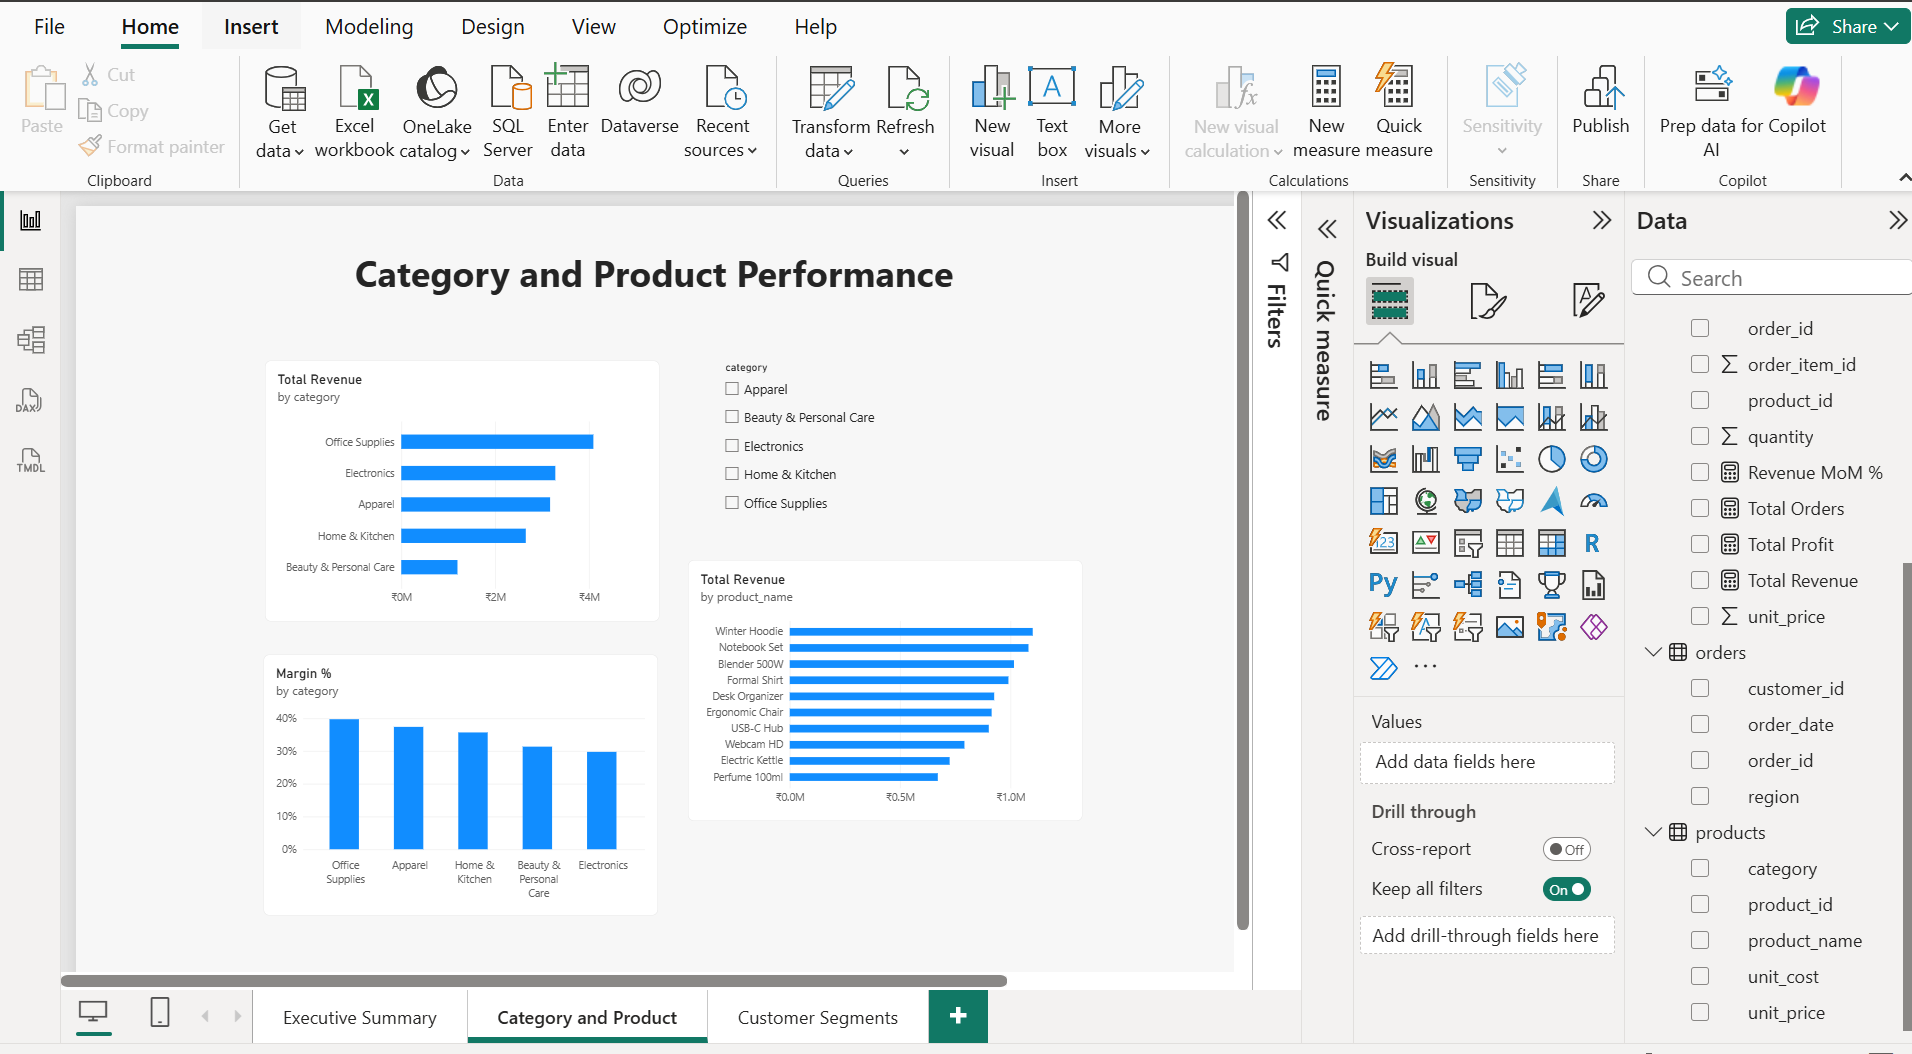

Layout of this report page (visuals, bound fields, positions):
{"tool":"powerbi","page":{"name":"Category and Product","canvas":[1920,1080],"ordinal":1},"visuals":[{"type":"clusteredBarChart","fields":{"Category":["products.category"],"Y":["order_items.Total Revenue"]},"box":[252,206,526,348],"z":0},{"type":"clusteredColumnChart","fields":{"Category":["products.category"],"Y":["order_items.Margin %"]},"box":[250,598,526,348],"z":1000},{"type":"clusteredBarChart","fields":{"Category":["products.product_name"],"Y":["order_items.Total Revenue"]},"box":[816,472,526,348],"z":2000},{"type":"slicer","fields":{"Values":["products.category"]},"box":[858,206,370,238],"z":3000},{"type":"textbox","box":[372,56,818,168],"z":4000}]}

Visuals, with their boxes on the page's 1920x1080 design canvas (x1, y1, x2, y2). These are canvas units, not pixel positions in the 1912x1054 screenshot, which may show the page scaled, cropped or inside an application window:
clusteredBarChart - products.category x order_items.Total Revenue: BBox(252, 206, 778, 554)
clusteredColumnChart - products.category x order_items.Margin %: BBox(250, 598, 776, 946)
clusteredBarChart - products.product_name x order_items.Total Revenue: BBox(816, 472, 1342, 820)
slicer - products.category: BBox(858, 206, 1228, 444)
textbox: BBox(372, 56, 1190, 224)
